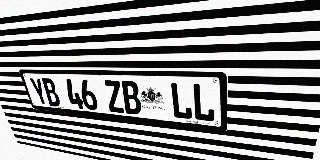4: (63, 79, 85, 109)
6: (77, 79, 99, 111)
B: (120, 81, 143, 115), (40, 78, 62, 107)
L: (169, 82, 193, 120), (192, 83, 215, 122)
Y: (29, 78, 49, 106)
Z: (103, 80, 125, 113)
